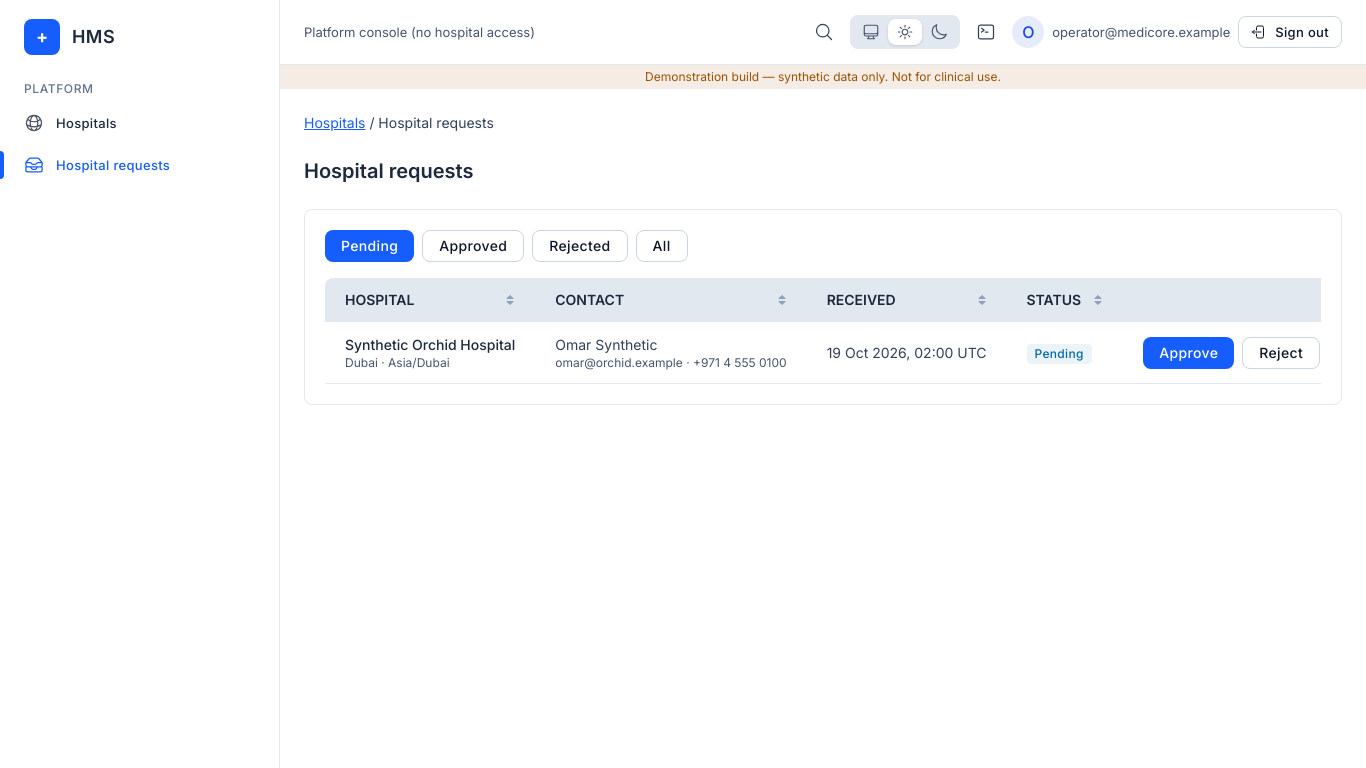
Scenario: Platform console › keeps the approve dialog open when the server reports a duplicate the list had not shown yet
This screenshot has width=1366, height=768.
Click the button with aria-label "Approve Synthetic Orchid Hospital": x=1189, y=353 top-left (1143, 337), bottom-right (1234, 369)
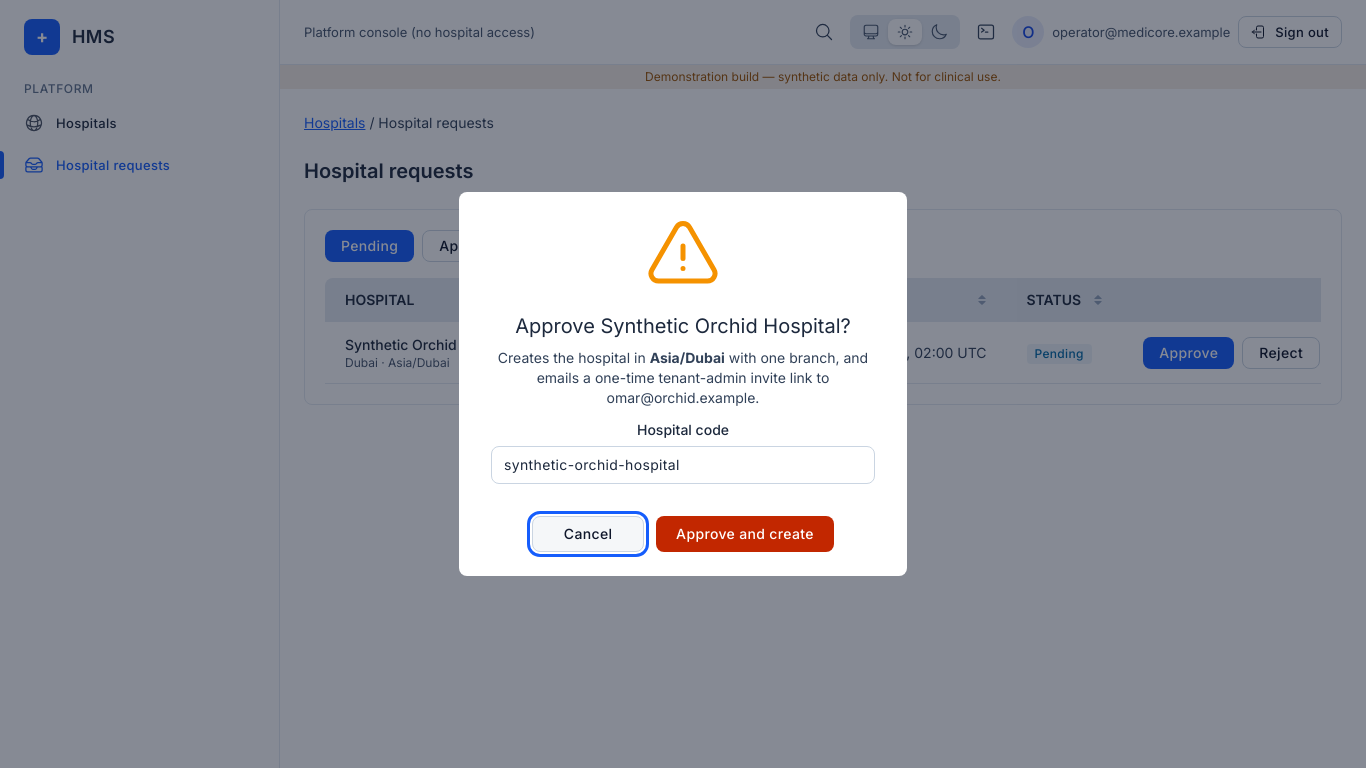
Click the button "Approve and create": x=745, y=534 top-left (656, 516), bottom-right (834, 552)
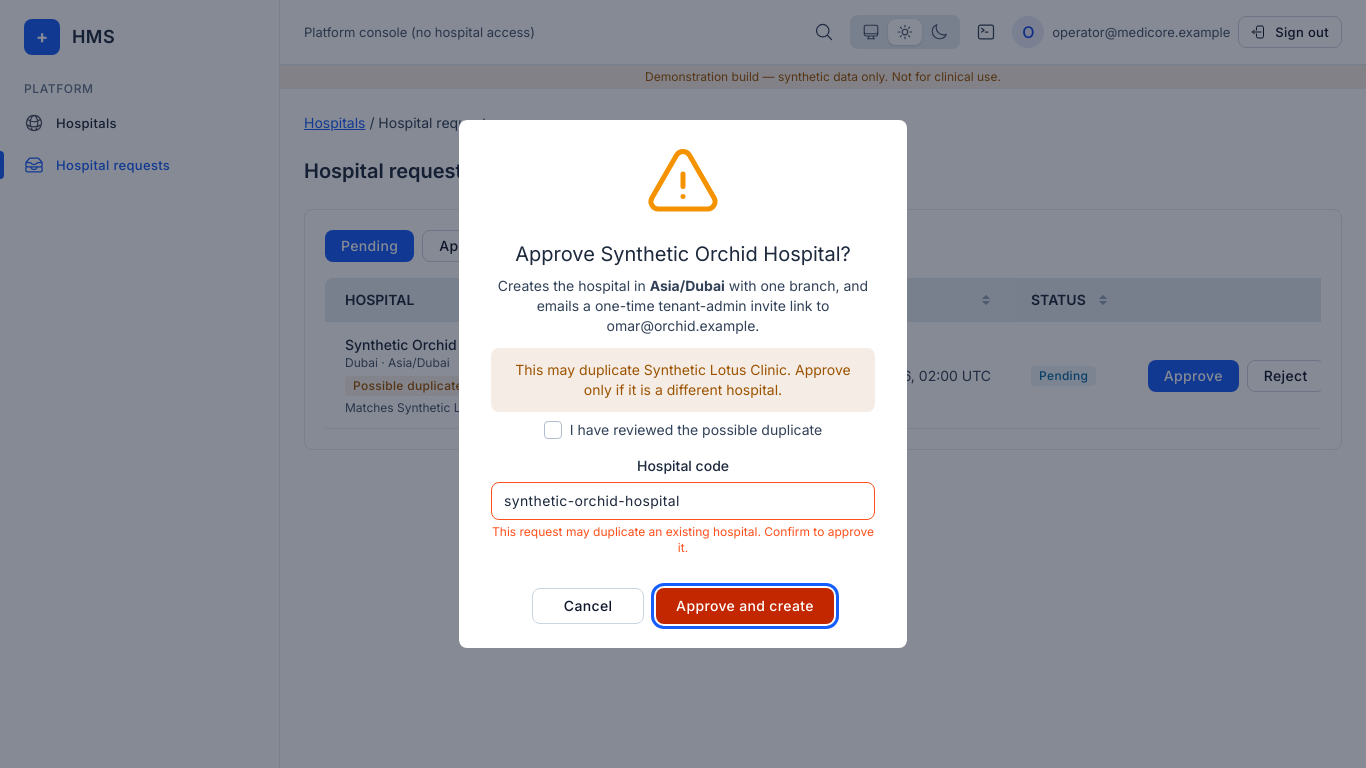
Now the checkbox labelled "I have reviewed the possible duplicate" is shown, box top-left (544, 421), bottom-right (562, 439)
Click the button "Approve and create": x=745, y=606 top-left (656, 588), bottom-right (834, 624)
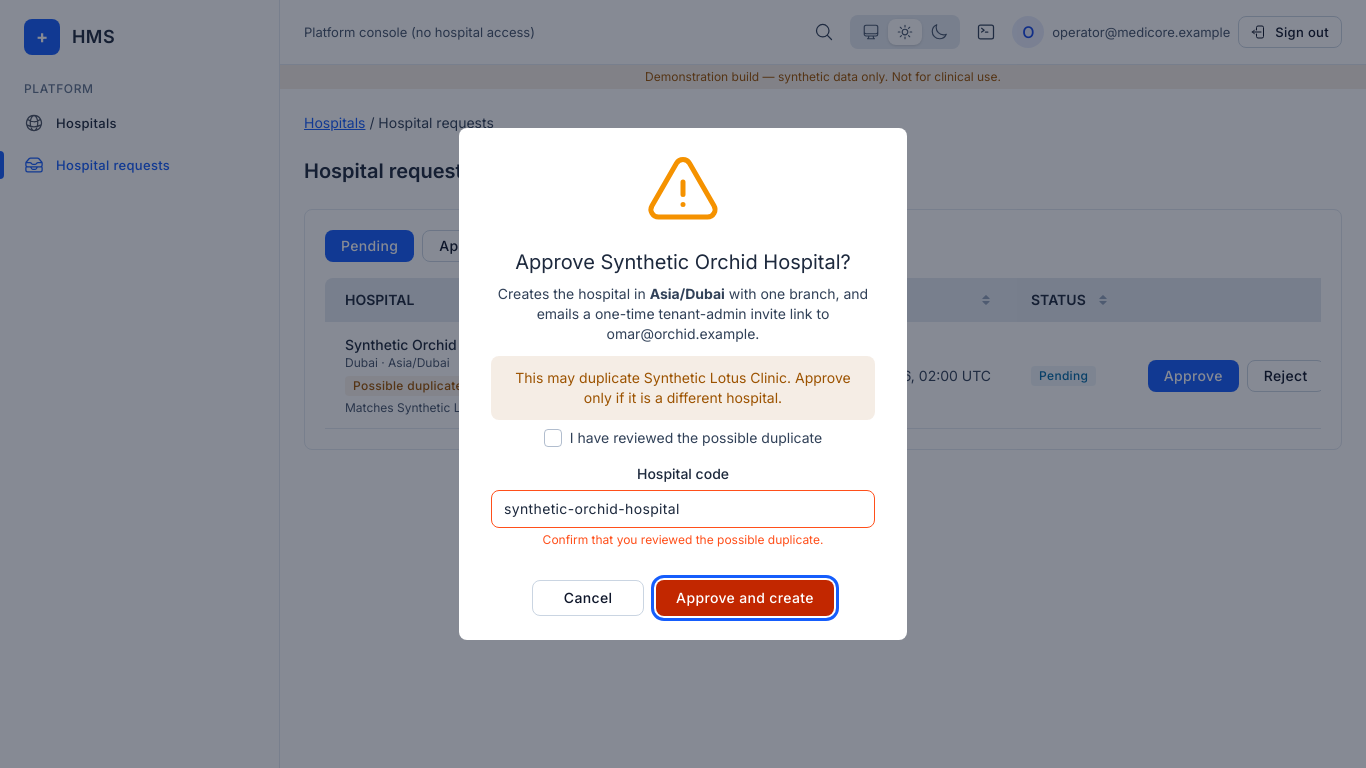
Click the checkbox labelled "I have reviewed the possible duplicate": x=553, y=438 top-left (544, 429), bottom-right (562, 447)
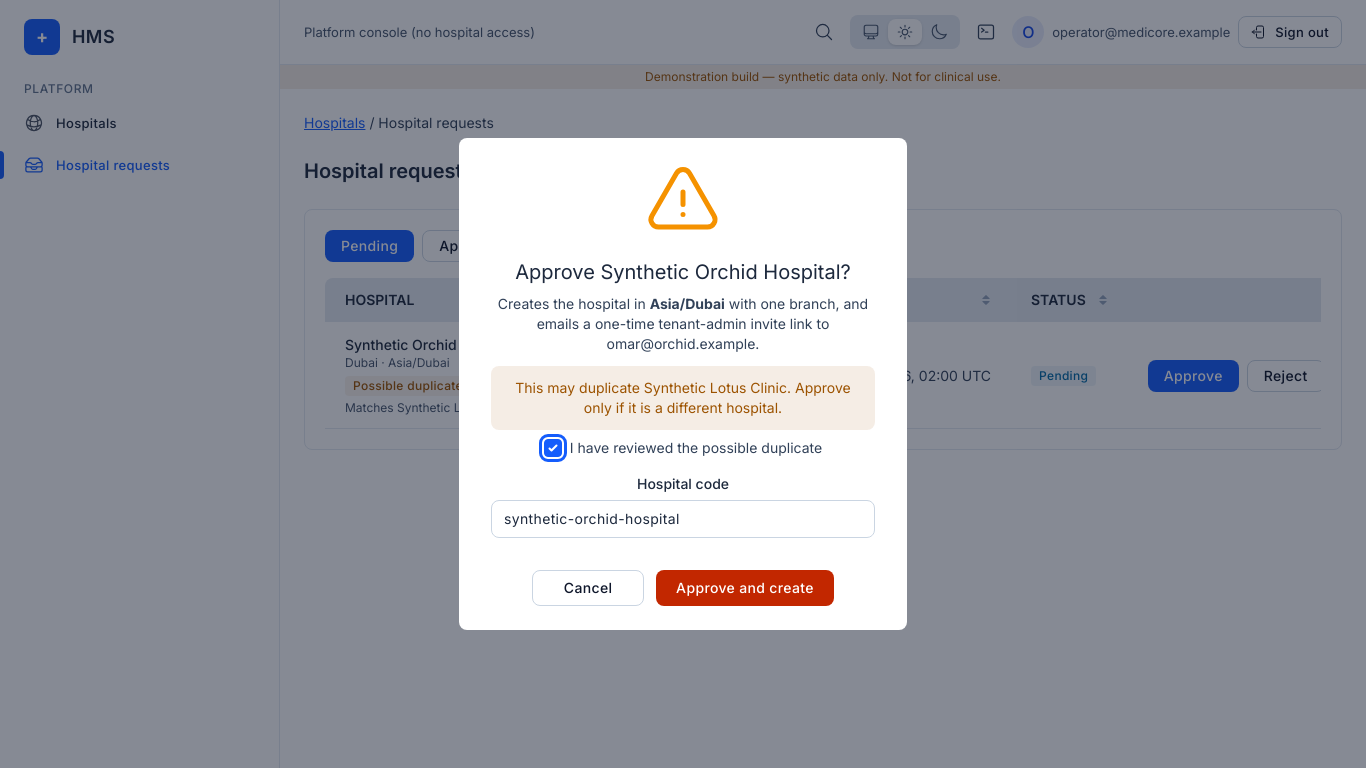
Click the button "Approve and create": x=745, y=588 top-left (656, 570), bottom-right (834, 606)
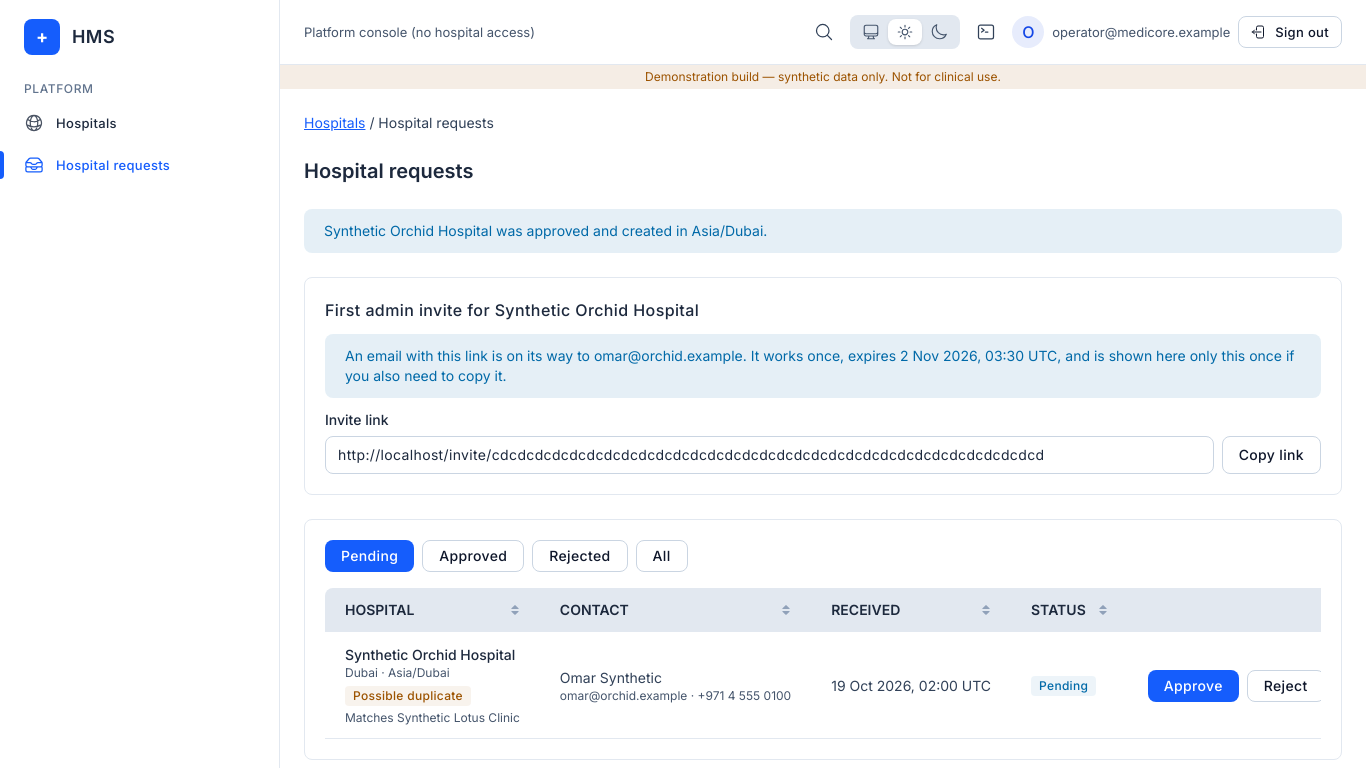
Now the element with test id "invite-link-notice" is shown, box top-left (325, 334), bottom-right (1321, 474)
